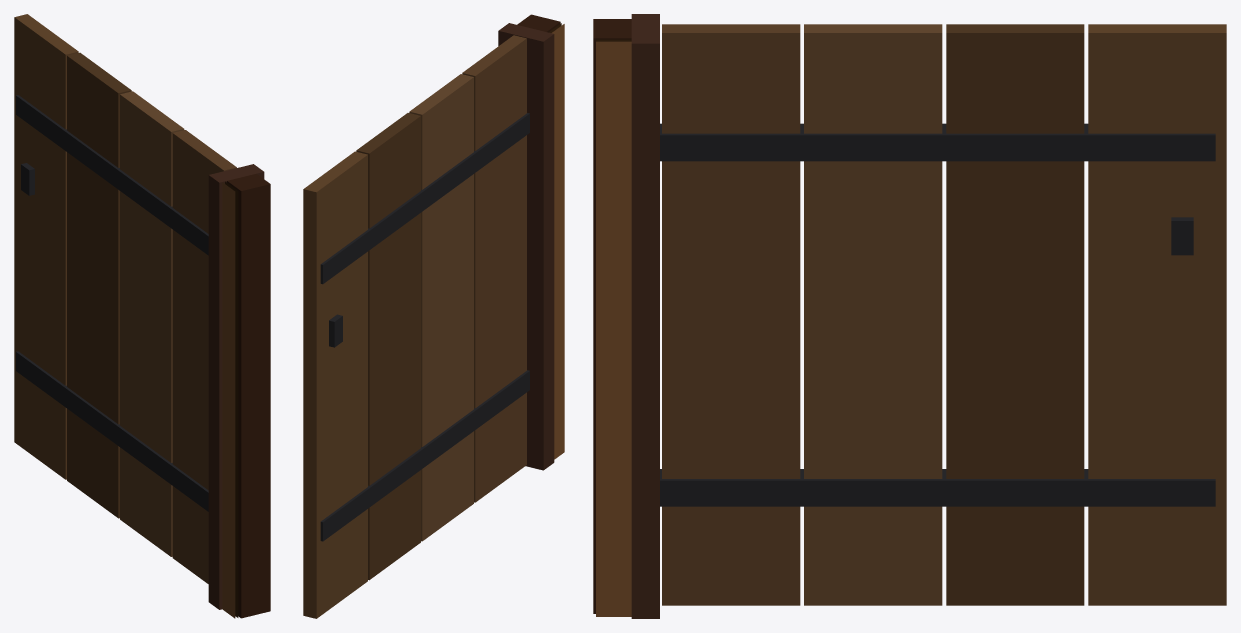
Rendered from wall-timber-door-shut-low-r.glb.
The picture shows the model from 3 angles, left to right: view 1: azimuth 30°, elevation 25°; view 2: azimuth 150°, elevation 25°; view 3: azimuth 270°, elevation 25°; orthographic projection. The views are drawn at different scales.
Visible parts, largest first — view 1: wall-timber-door-shut-low-r; view 2: wall-timber-door-shut-low-r; view 3: wall-timber-door-shut-low-r.
Boxes of the visible parts, bbox=[...] form: wall-timber-door-shut-low-r: bbox=[14, 14, 270, 618]; wall-timber-door-shut-low-r: bbox=[303, 14, 564, 618]; wall-timber-door-shut-low-r: bbox=[593, 14, 1226, 618].
Bounding box in the file's own units: 0.11 × 1 × 0.997.
